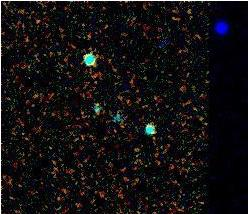star: (142, 25, 172, 55)
